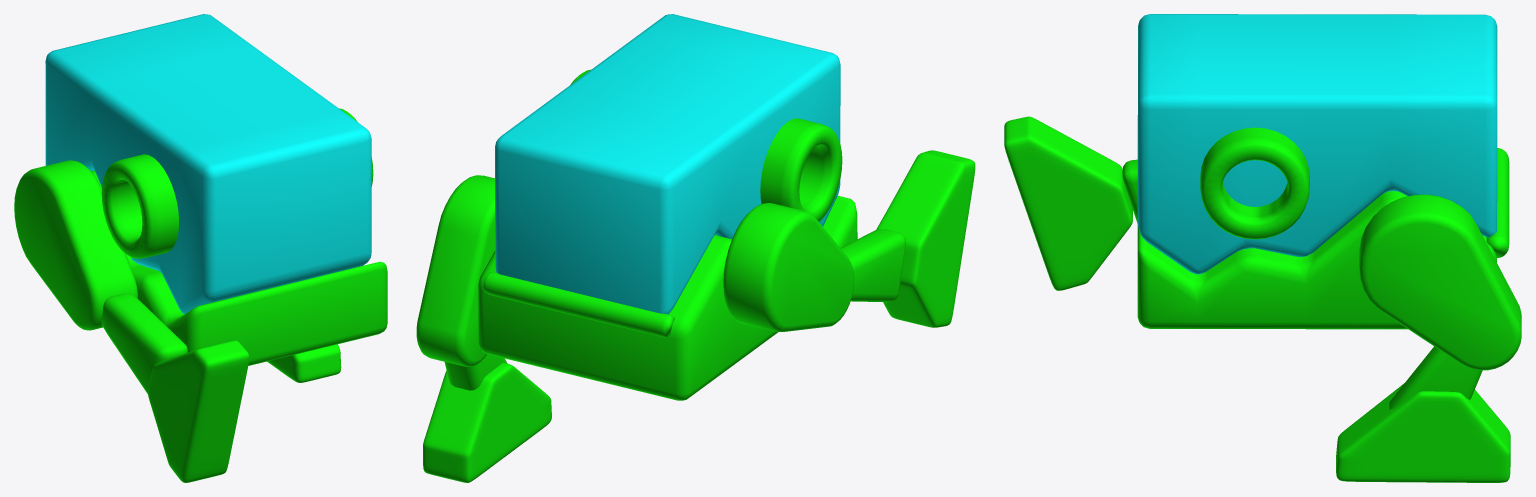
The picture shows the model from 3 angles, left to right: view 1: azimuth 30°, elevation 25°; view 2: azimuth 150°, elevation 25°; view 3: azimuth 270°, elevation 25°; orthographic projection. The views are drawn at different scales.
Visible parts, largest first — view 1: Top_Jaw, Lower_Jaw, Thighs_Left, Feet_Left, Eyes, Shin_Left, Feet_Right; view 2: Top_Jaw, Lower_Jaw, Thighs_Left, Feet_Left, Thighs_Right, Feet_Right, Eyes, Hinge, Shin_Left, Shin_Right; view 3: Top_Jaw, Thighs_Right, Lower_Jaw, Feet_Left, Feet_Right, Eyes, Shin_Right, Hinge, Shin_Left.
Boxes of the visible parts, left/top/right/bottom form: Top_Jaw: left=45, top=14, right=371, bottom=314; Lower_Jaw: left=91, top=170, right=387, bottom=365; Thighs_Left: left=14, top=160, right=137, bottom=330; Feet_Left: left=148, top=340, right=249, bottom=482; Eyes: left=101, top=108, right=373, bottom=258; Shin_Left: left=101, top=293, right=187, bottom=393; Feet_Right: left=267, top=344, right=341, bottom=382; Top_Jaw: left=495, top=14, right=840, bottom=314; Lower_Jaw: left=478, top=195, right=857, bottom=400; Thighs_Left: left=723, top=203, right=854, bottom=331; Feet_Left: left=876, top=150, right=975, bottom=327; Thighs_Right: left=416, top=175, right=495, bottom=366; Feet_Right: left=423, top=363, right=551, bottom=482; Eyes: left=570, top=69, right=842, bottom=221; Hinge: left=483, top=272, right=674, bottom=337; Shin_Left: left=840, top=229, right=905, bottom=302; Shin_Right: left=444, top=354, right=507, bottom=390; Top_Jaw: left=1137, top=14, right=1497, bottom=274; Thighs_Right: left=1359, top=194, right=1521, bottom=370; Lower_Jaw: left=1137, top=191, right=1496, bottom=329; Feet_Left: left=1004, top=116, right=1132, bottom=290; Feet_Right: left=1336, top=383, right=1510, bottom=482; Eyes: left=1200, top=127, right=1309, bottom=239; Shin_Right: left=1389, top=346, right=1482, bottom=409; Hinge: left=1486, top=148, right=1509, bottom=257; Shin_Left: left=1122, top=159, right=1137, bottom=223.
Bounding box in the file's own units: 2.03 × 2.18 × 2.87.
